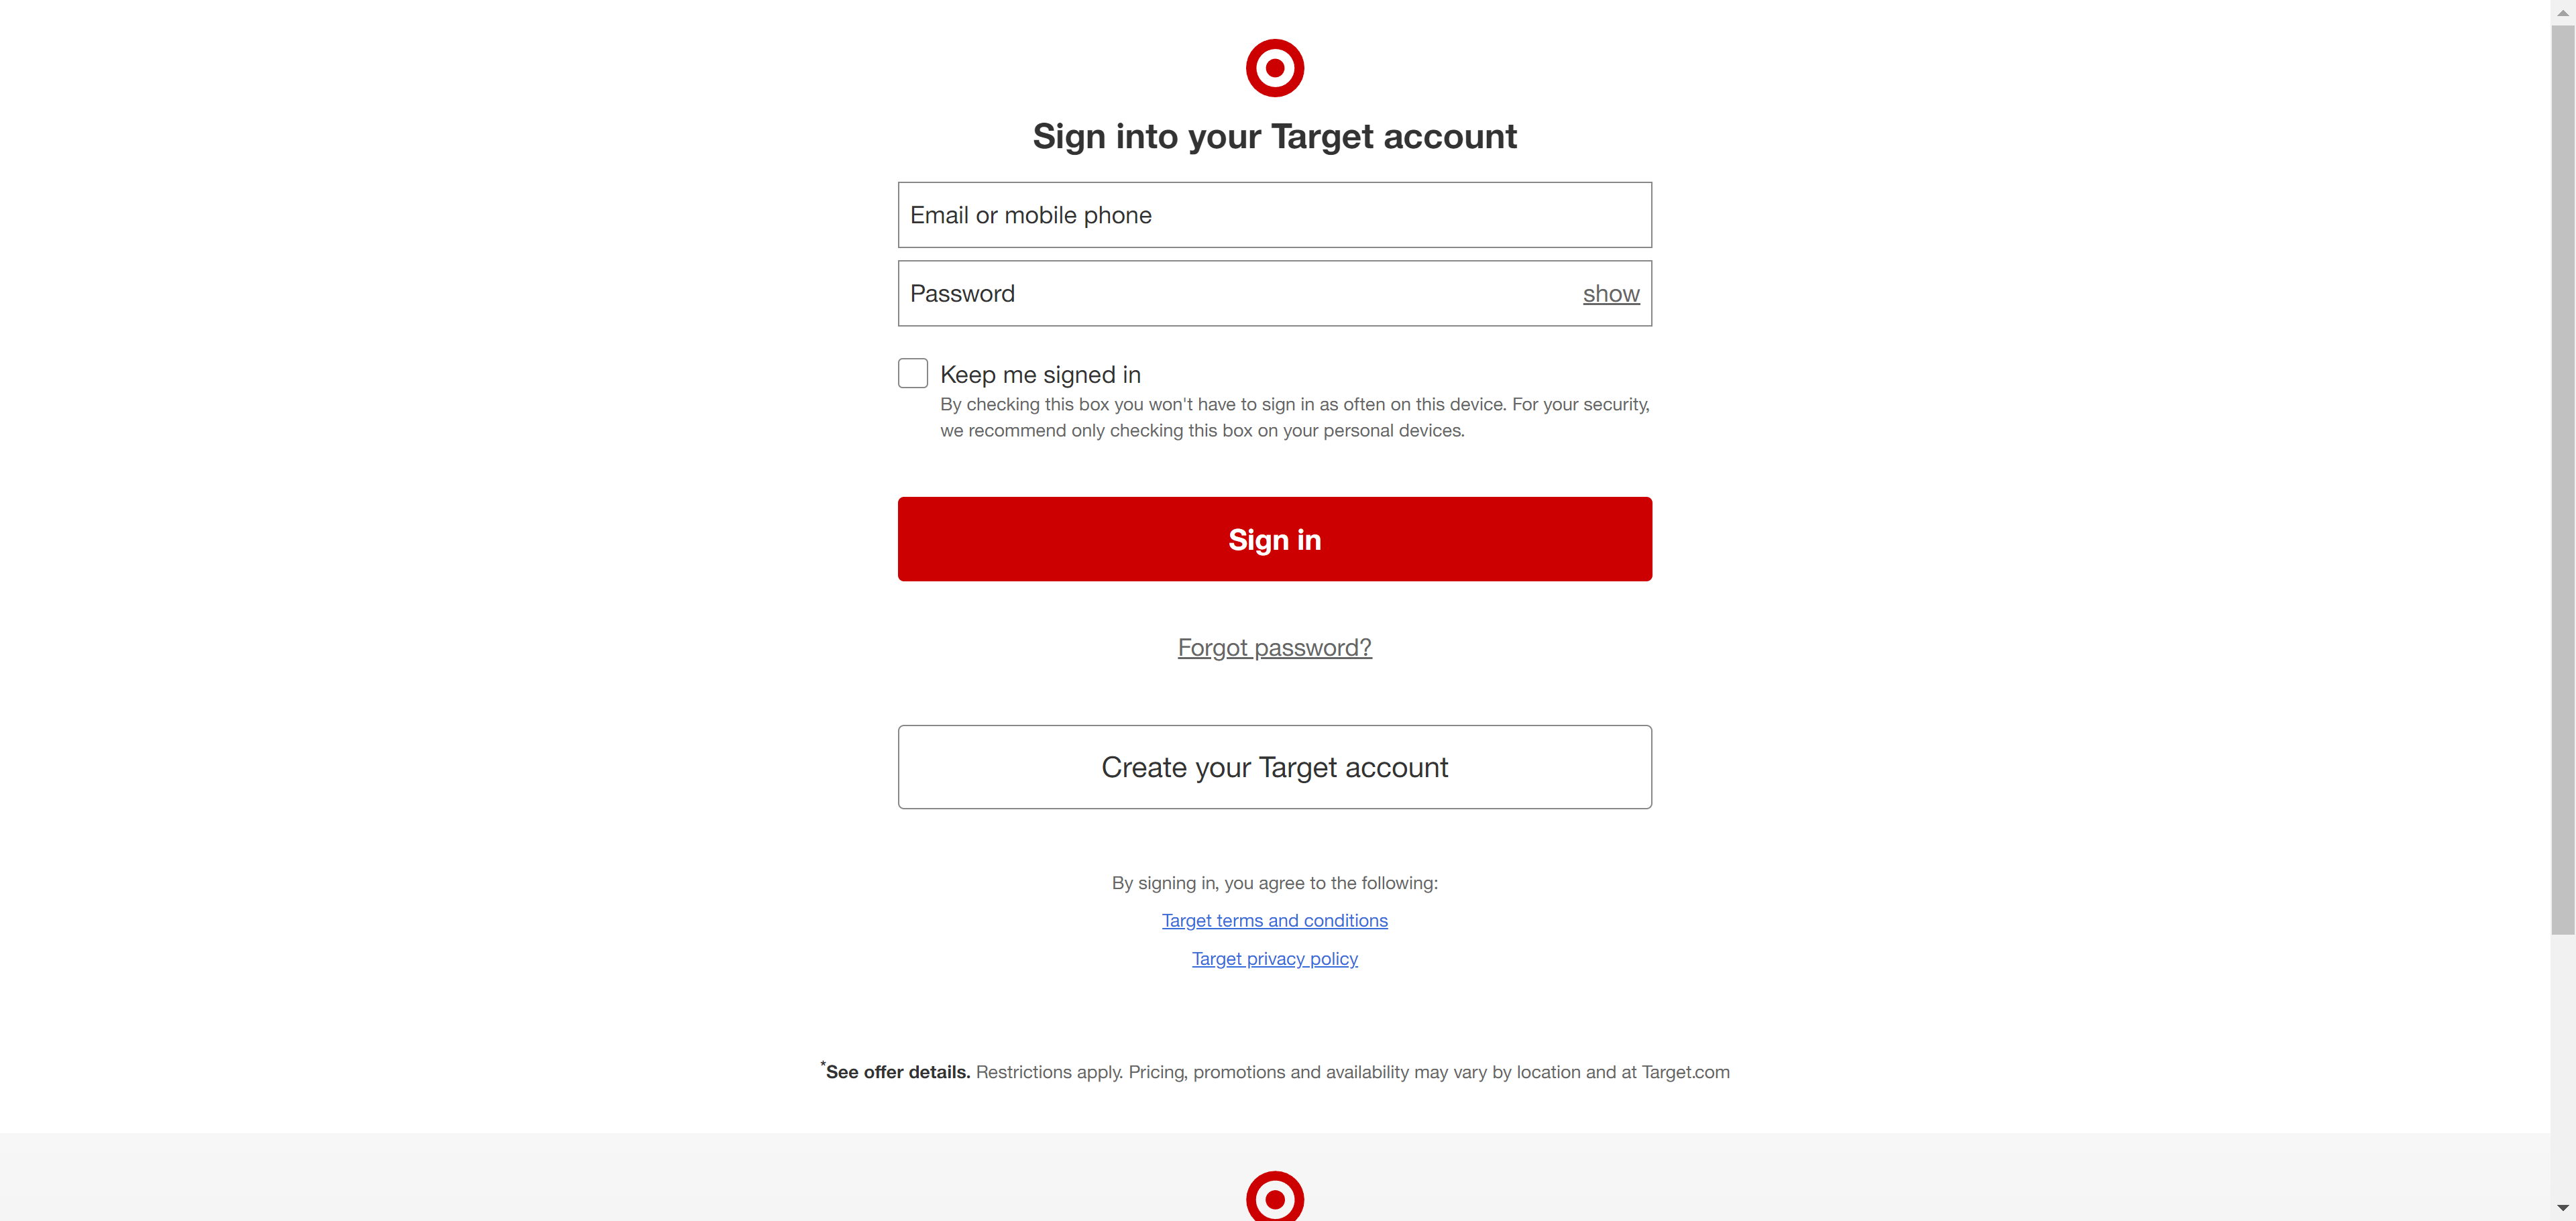login_button: (897, 496, 1653, 582)
login_form: (890, 174, 1659, 588)
